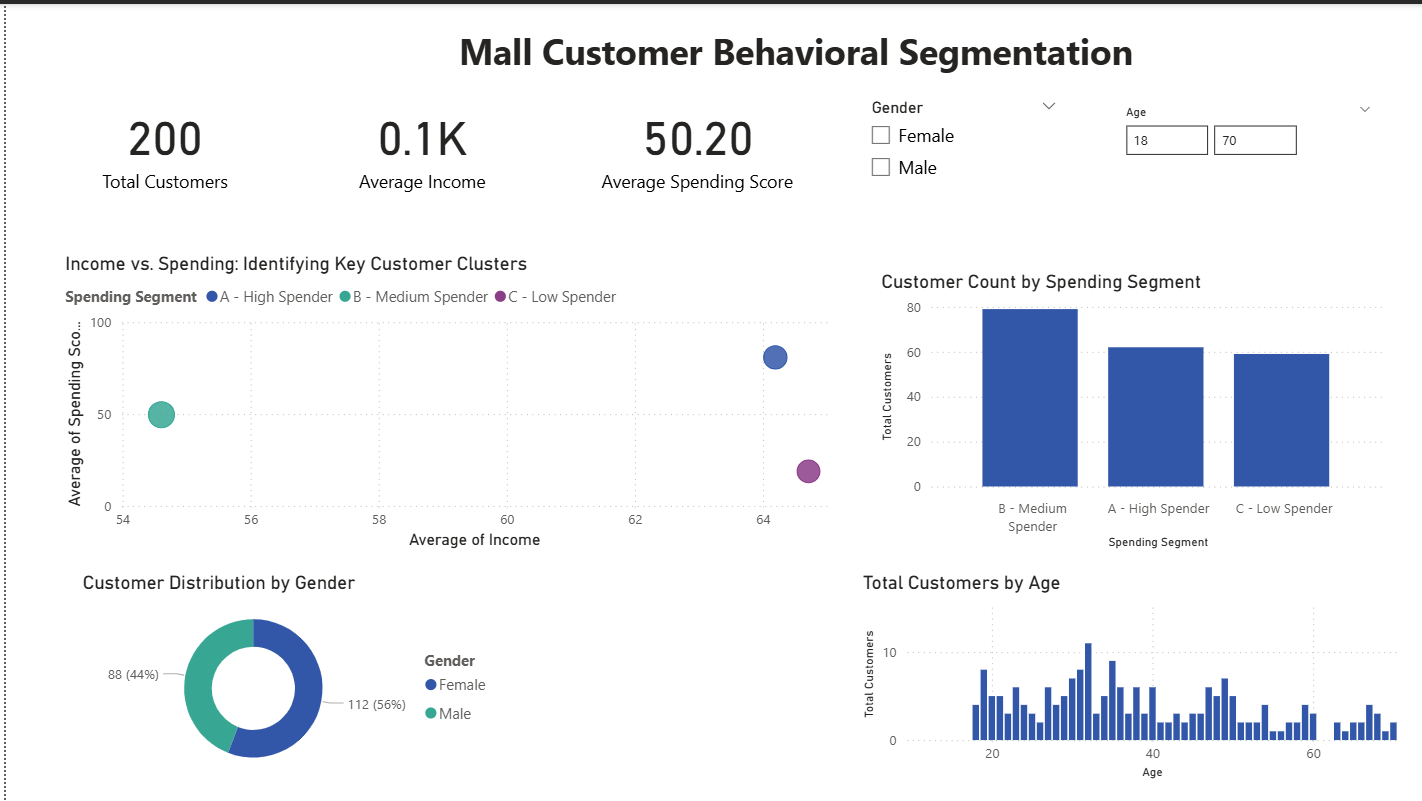

The dashboard page shown, as its layout file describes it:
{"tool":"powerbi","page":{"name":"Page 1","canvas":[1280,720],"ordinal":0},"visuals":[{"type":"textbox","box":[384,16,656,64],"z":0},{"type":"card","fields":{"Values":["Mall_Customers.Total Customers"]},"box":[32,80,224,96],"z":1000},{"type":"card","fields":{"Values":["Mall_Customers.Average Income"]},"box":[272,80,208,96],"z":2000},{"type":"card","fields":{"Values":["Mall_Customers.Average Spending Score"]},"box":[528,80,192,96],"z":3000},{"type":"clusteredColumnChart","title":"Customer Count by Spending Segment","fields":{"Category":["Mall_Customers.Spending Segment"],"Y":["Mall_Customers.Total Customers"]},"box":[784,240,464,256],"z":4000},{"type":"donutChart","title":"Customer Distribution by Gender","fields":{"Category":["Mall_Customers.Gender"],"Y":["Mall_Customers.Total Customers"]},"box":[64,512,384,192],"z":5000},{"type":"clusteredColumnChart","fields":{"Category":["Mall_Customers.Age"],"Y":["Mall_Customers.Total Customers"]},"box":[768,512,496,192],"z":6000},{"type":"scatterChart","title":"Income vs. Spending: Identifying Key Customer Clusters","fields":{"X":["Avg(Mall_Customers.Income)"],"Y":["Avg(Mall_Customers.Spending Score)"],"Size":["Mall_Customers.Total Customers"],"Series":["Mall_Customers.Spending Segment"]},"box":[48,224,704,272],"z":7000},{"type":"slicer","fields":{"Values":["Mall_Customers.Gender"]},"box":[768,80,192,96],"z":8000},{"type":"slicer","fields":{"Values":["Mall_Customers.Age"]},"box":[992,80,256,96],"z":9000}]}

Visuals, with their boxes in screenshot pixels (x1, y1, x2, y2), scaled from the page's 1280x720 canvas onto the 1422x801 screenshot:
textbox: bbox=(427, 18, 1155, 89)
card - Mall_Customers.Total Customers: bbox=(36, 89, 284, 196)
card - Mall_Customers.Average Income: bbox=(302, 89, 533, 196)
card - Mall_Customers.Average Spending Score: bbox=(587, 89, 800, 196)
"Customer Count by Spending Segment" clusteredColumnChart: bbox=(871, 267, 1386, 552)
"Customer Distribution by Gender" donutChart: bbox=(71, 570, 498, 783)
clusteredColumnChart - Mall_Customers.Age x Mall_Customers.Total Customers: bbox=(853, 570, 1404, 783)
"Income vs. Spending: Identifying Key Customer Clusters" scatterChart: bbox=(53, 249, 835, 552)
slicer - Mall_Customers.Gender: bbox=(853, 89, 1066, 196)
slicer - Mall_Customers.Age: bbox=(1102, 89, 1386, 196)
